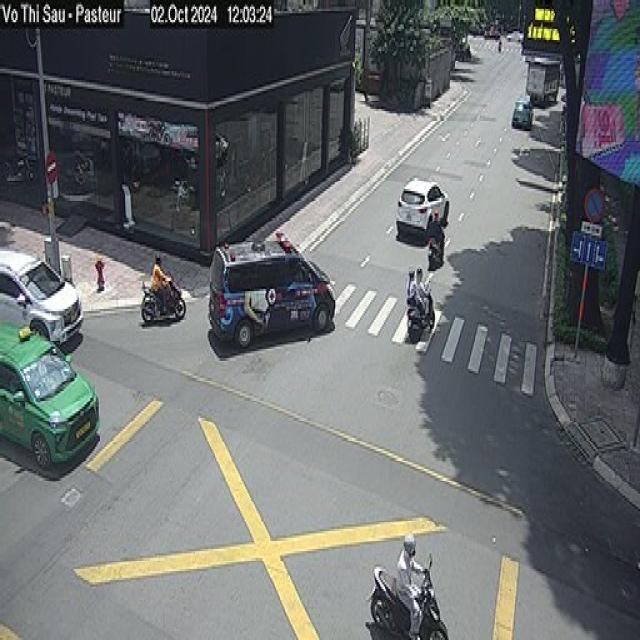car: (207, 229, 335, 349), (0, 320, 100, 469), (395, 176, 449, 240), (512, 95, 532, 129)
motorcycle: (369, 551, 449, 638), (139, 271, 185, 325), (405, 264, 434, 342)
person: (395, 531, 429, 638), (150, 254, 172, 314)
